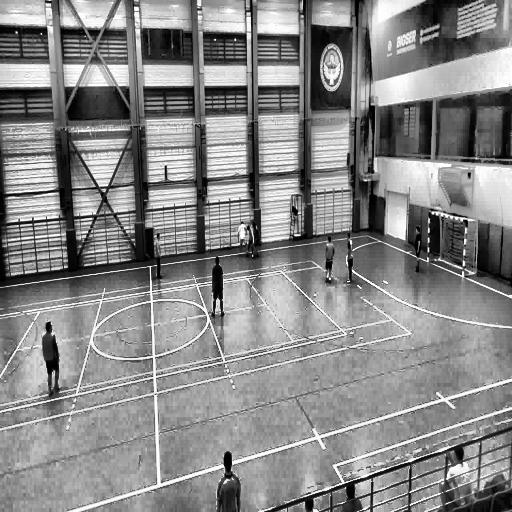player: (40, 319, 62, 395), (211, 256, 225, 317), (325, 234, 334, 284), (237, 219, 249, 256), (155, 232, 164, 278), (346, 232, 354, 282), (414, 227, 422, 273), (251, 221, 261, 257), (246, 223, 254, 261)
